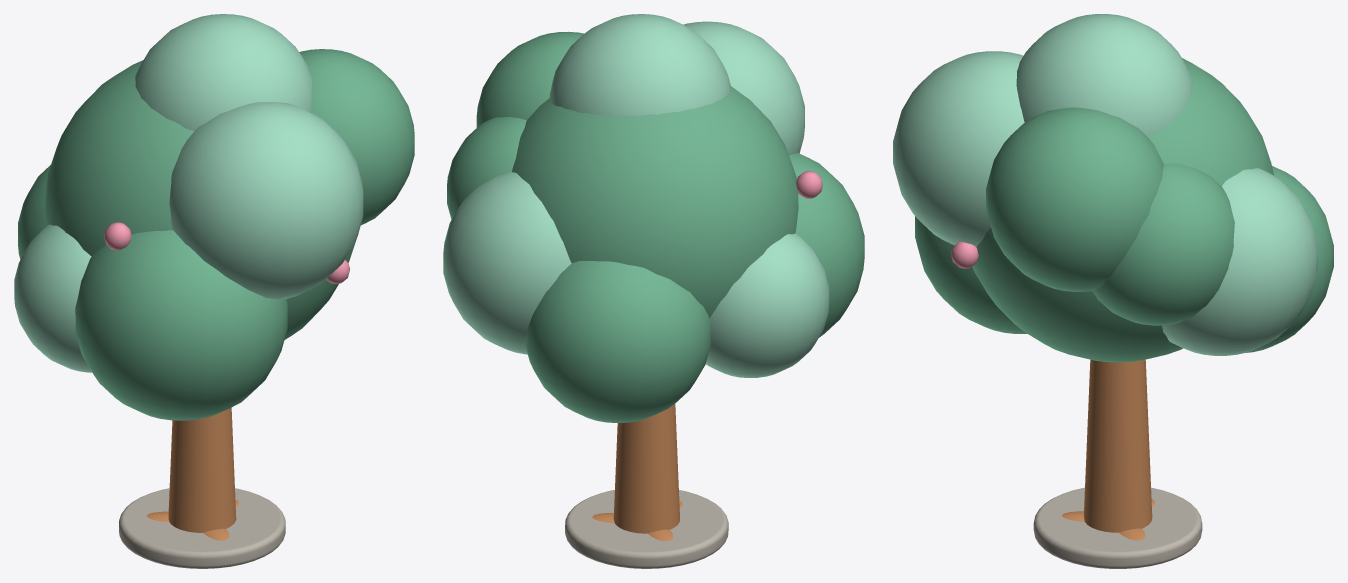
The model's file is tree_big.glb.
The picture shows the model from 3 angles, left to right: view 1: azimuth 30°, elevation 25°; view 2: azimuth 150°, elevation 25°; view 3: azimuth 270°, elevation 25°; orthographic projection. The views are drawn at different scales.
Visible parts, largest first — view 1: tree_big; view 2: tree_big; view 3: tree_big.
Boxes of the visible parts, <box> form: tree_big: <box>14,14,414,568</box>; tree_big: <box>443,14,864,568</box>; tree_big: <box>893,14,1333,568</box>.
Bounding box in the file's own units: 4.43 × 6.18 × 4.71.
Materials: 1 (1 with a texture image).
